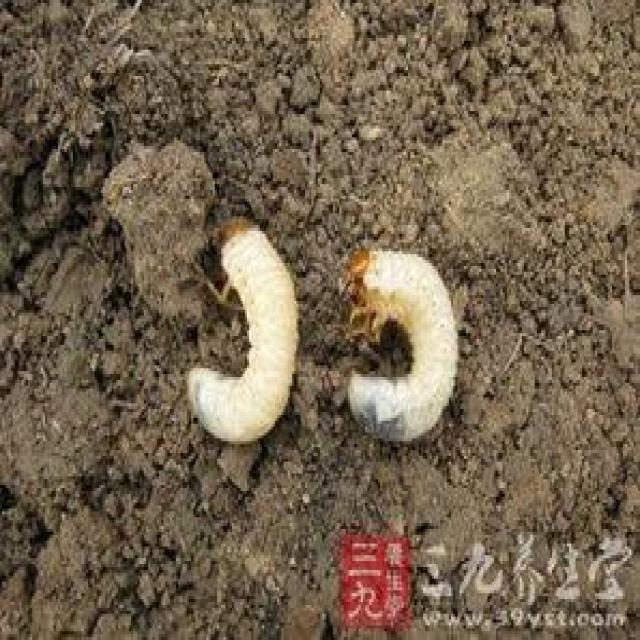Grub-Adult-: (177, 193, 311, 463), (340, 217, 464, 462)
